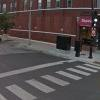Crosswalk: (11, 60, 99, 100)
